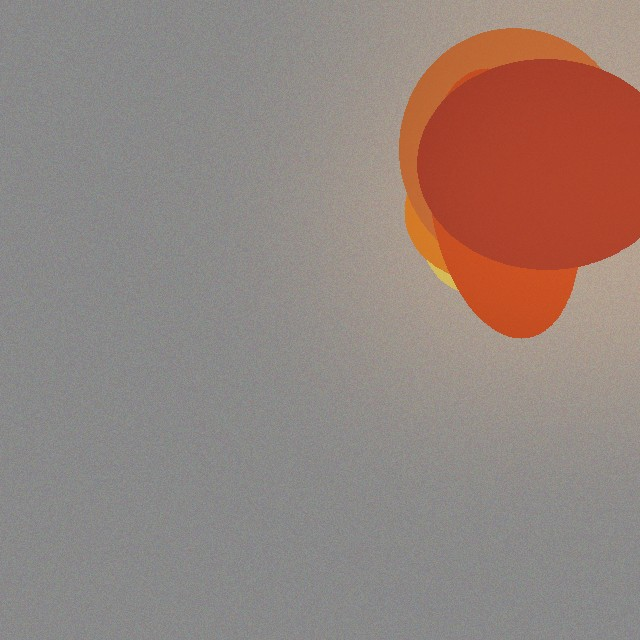fire: (434, 83, 610, 331)
